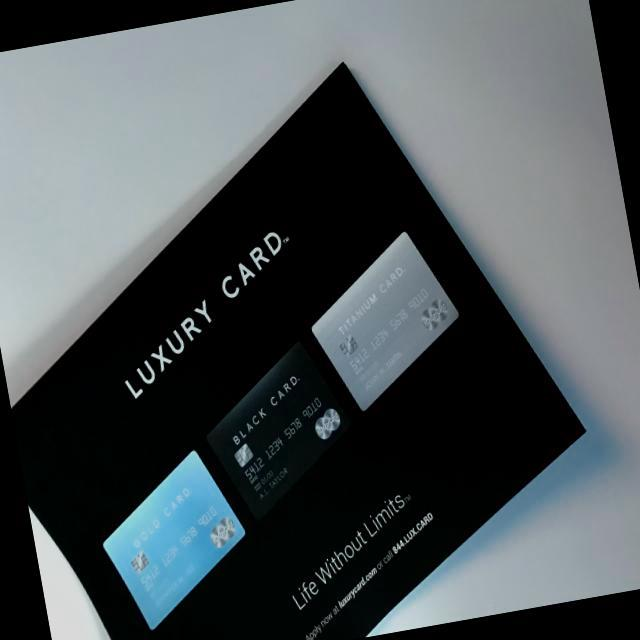paper: (0, 17, 630, 640)
